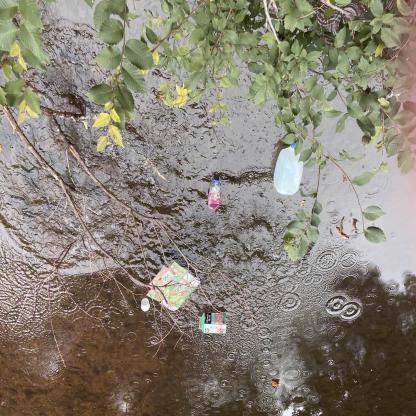Plastic: (272, 140, 306, 197), (207, 176, 224, 214)
Trash: (138, 297, 150, 315)
